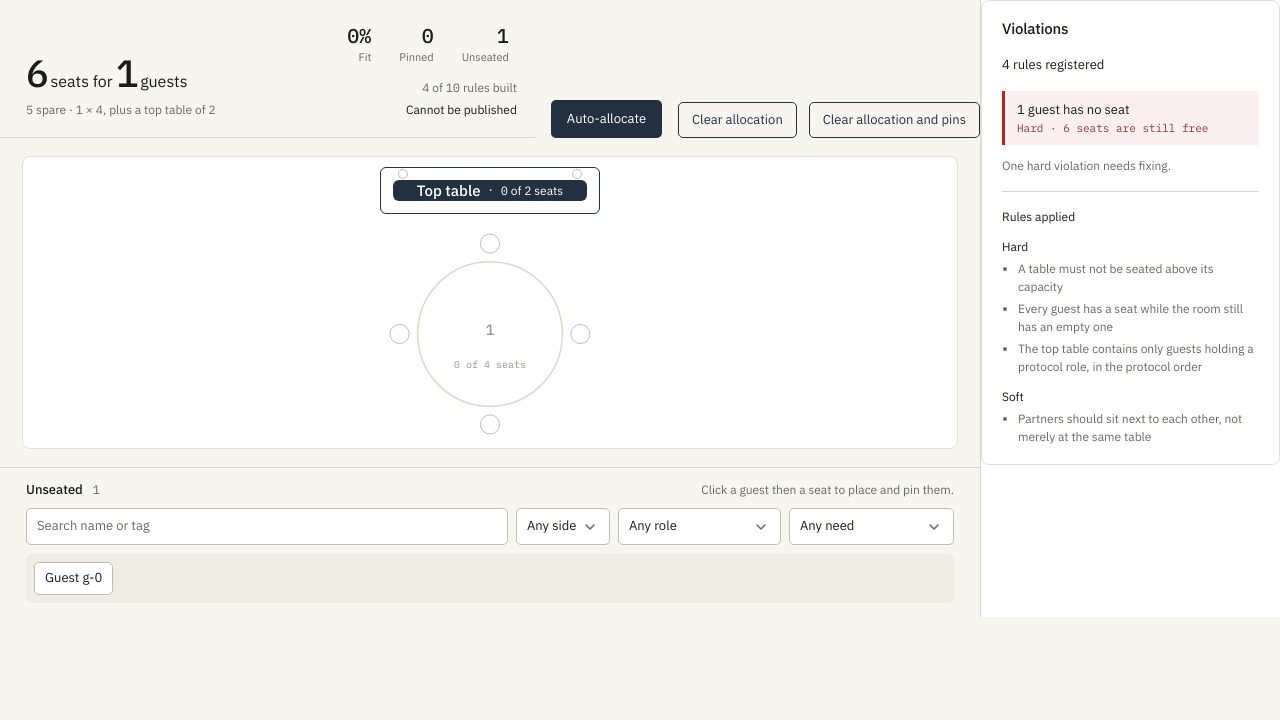
Test: PlanScreen — placing a guest with two clicks › clicking a rail guest then a table places them: they leave the rail, the table reads one seat filled, and the table carries data-pinned
This screenshot has width=1280, height=720.
Click the button "Guest g-0" at point(74, 579), box [34,562,113,595]
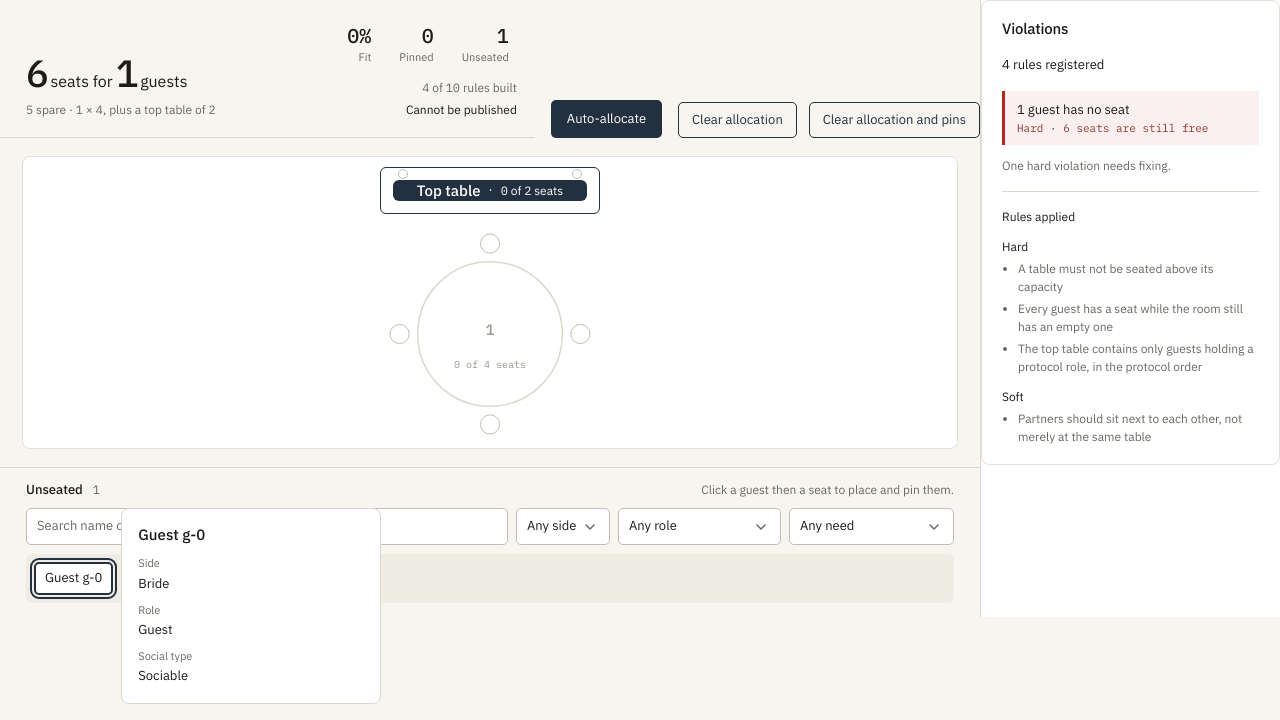
Click the button named "Place Guest g-0 at Table 1" at point(490, 334), box [390,234,590,434]
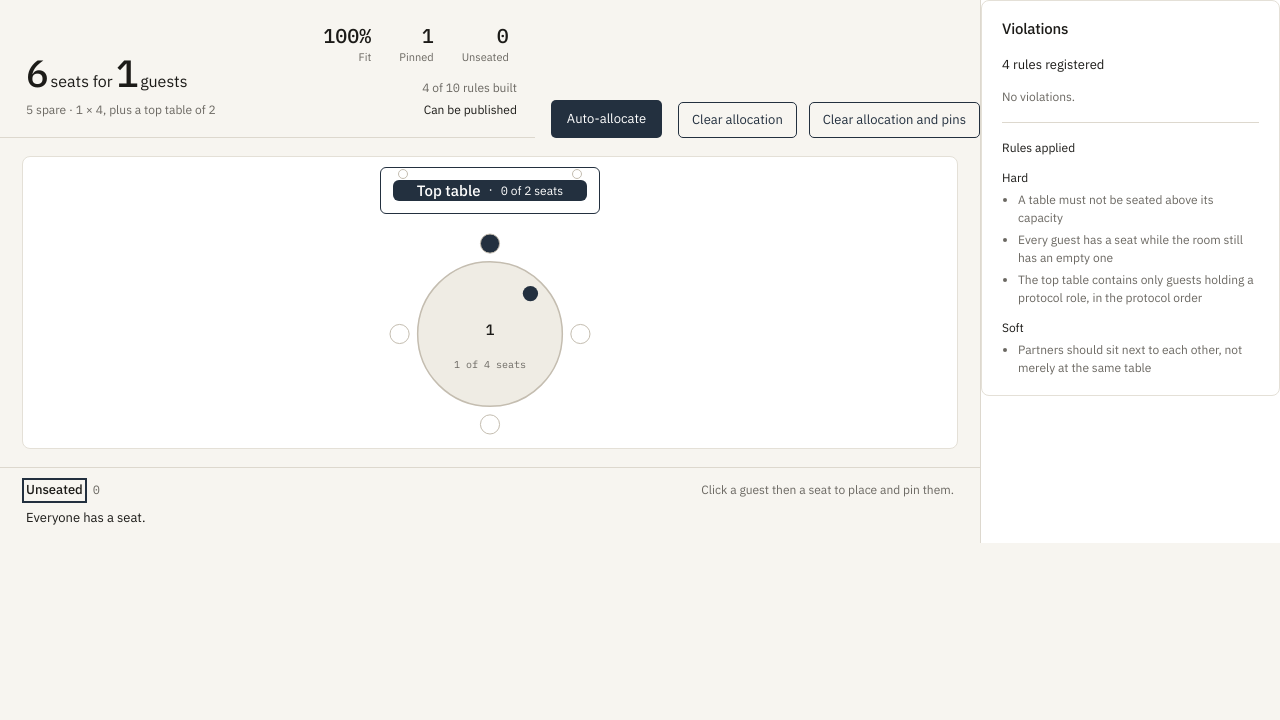
Now the list item "1 1 of 4 seats" is shown, box [390,234,590,434]
